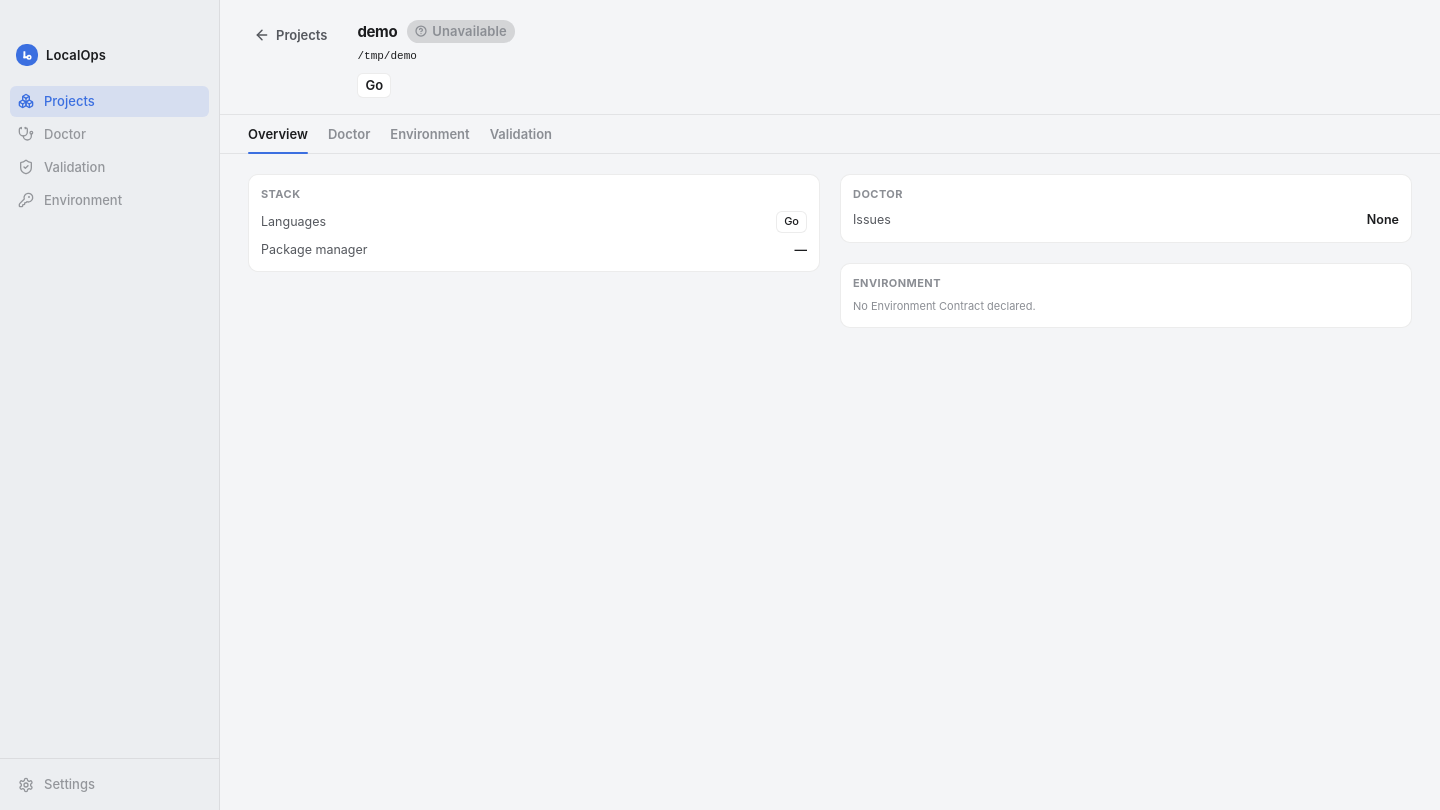
Scenario: ProjectDetailPage › returns to Projects via the Back action
The image size is (1440, 810).
Check: the heading "demo" is shown, box [358, 20, 397, 42]
Click the link with aria-label "Back to Projects" at [291, 35], box [254, 27, 328, 43]
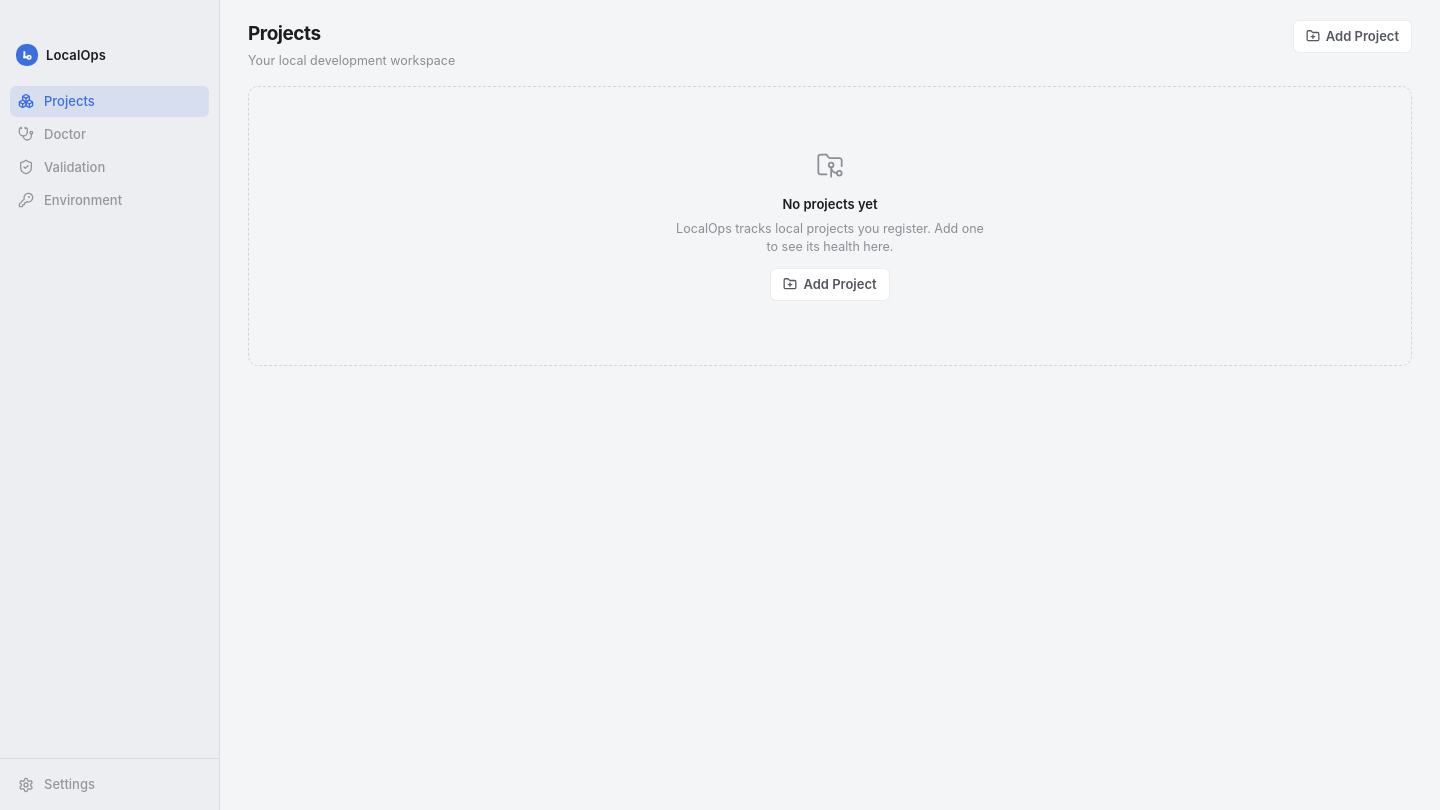
Check: the text "Your local development workspace" is shown, box [248, 52, 455, 70]
